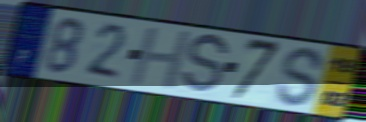2: (81, 21, 130, 85)
7: (228, 36, 284, 103)
8: (42, 15, 86, 76)
H: (127, 26, 195, 91)
S: (274, 45, 327, 109), (179, 32, 231, 97)
